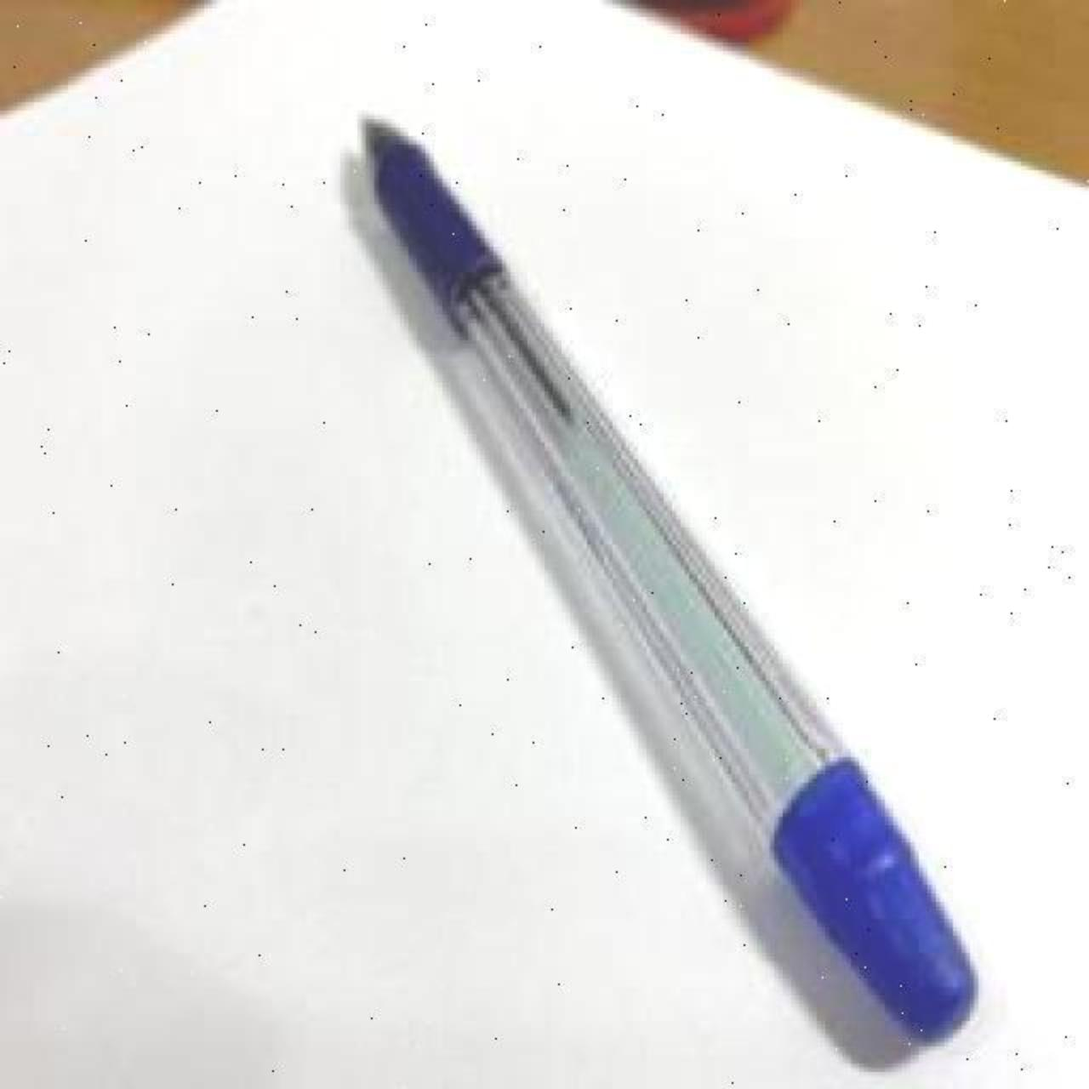pen: (352, 111, 978, 1060)
